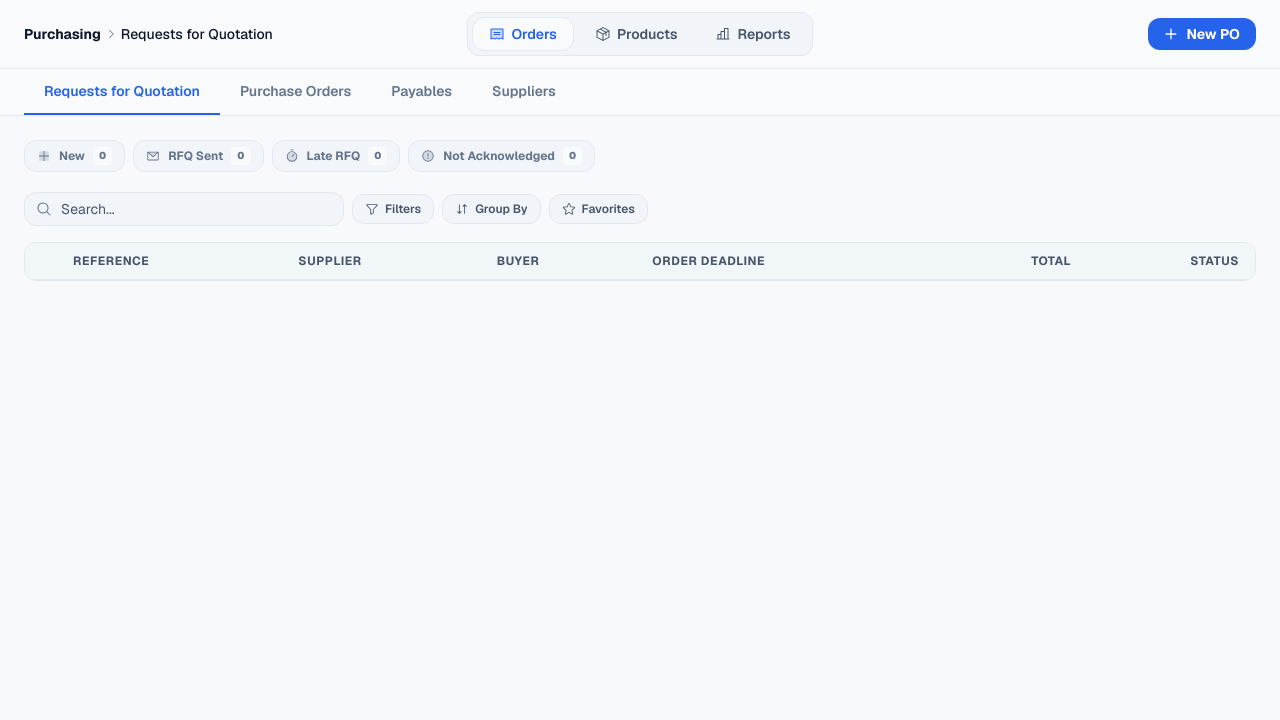
Reports drill-down in the Purchasing shell › opens the filtered order list, says it came from Reports, and returns on request
Click the button "Reports" at (753, 34), box [698,17,808,51]
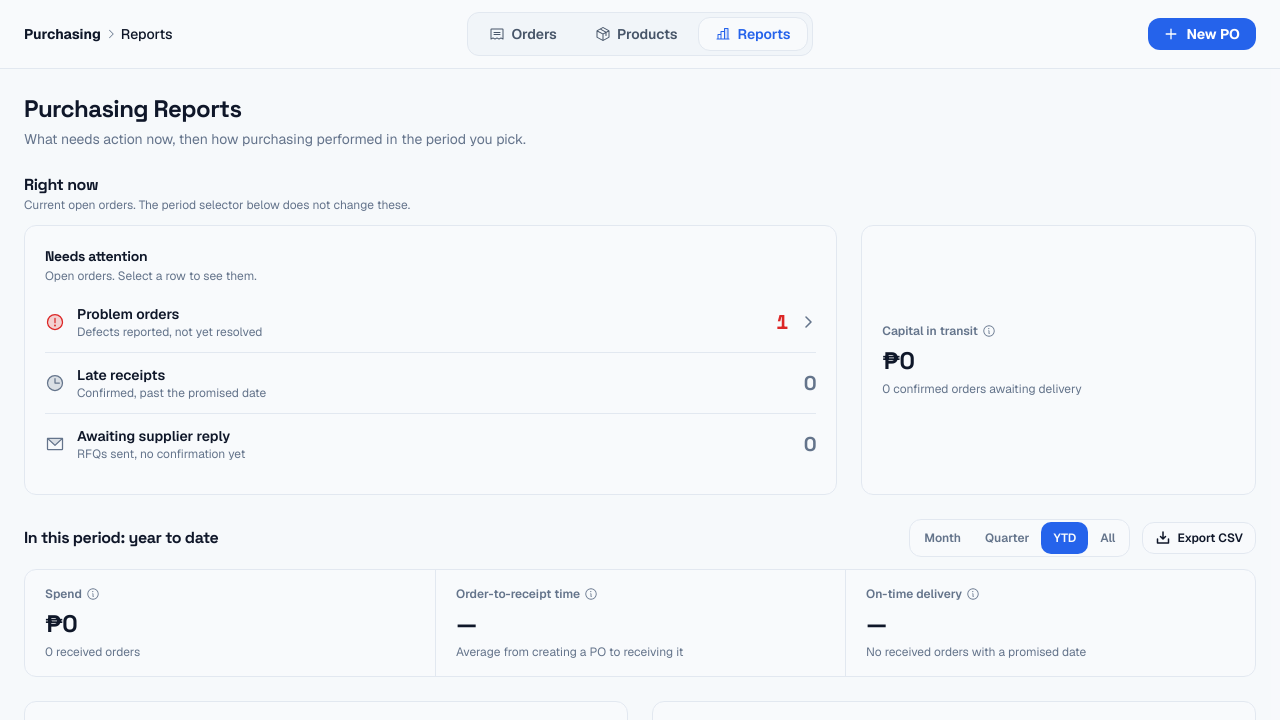
Click the button with aria-label "problem orders: 1" at (128, 314), box [45,292,816,352]
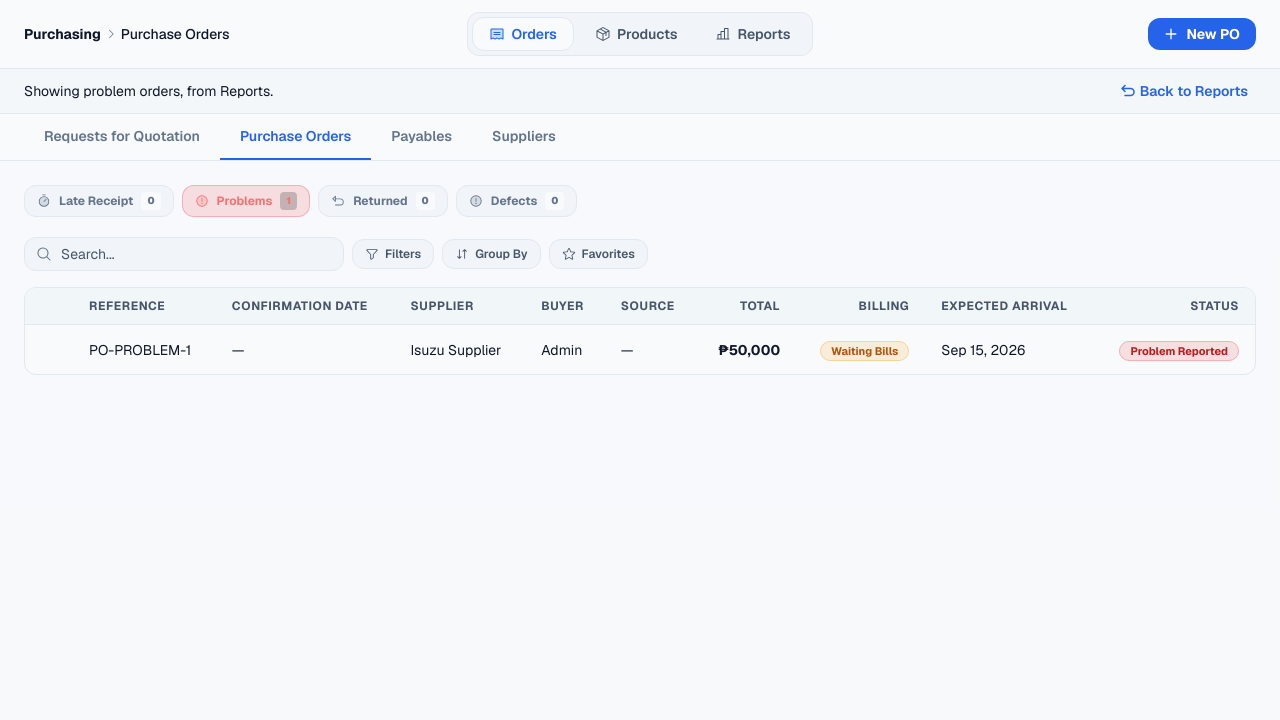
Result: the text "Showing problem orders, from Reports." is shown at [24,81,273,101]
Click the button "Back to Reports" at (1184, 91), box [1112,77,1256,105]
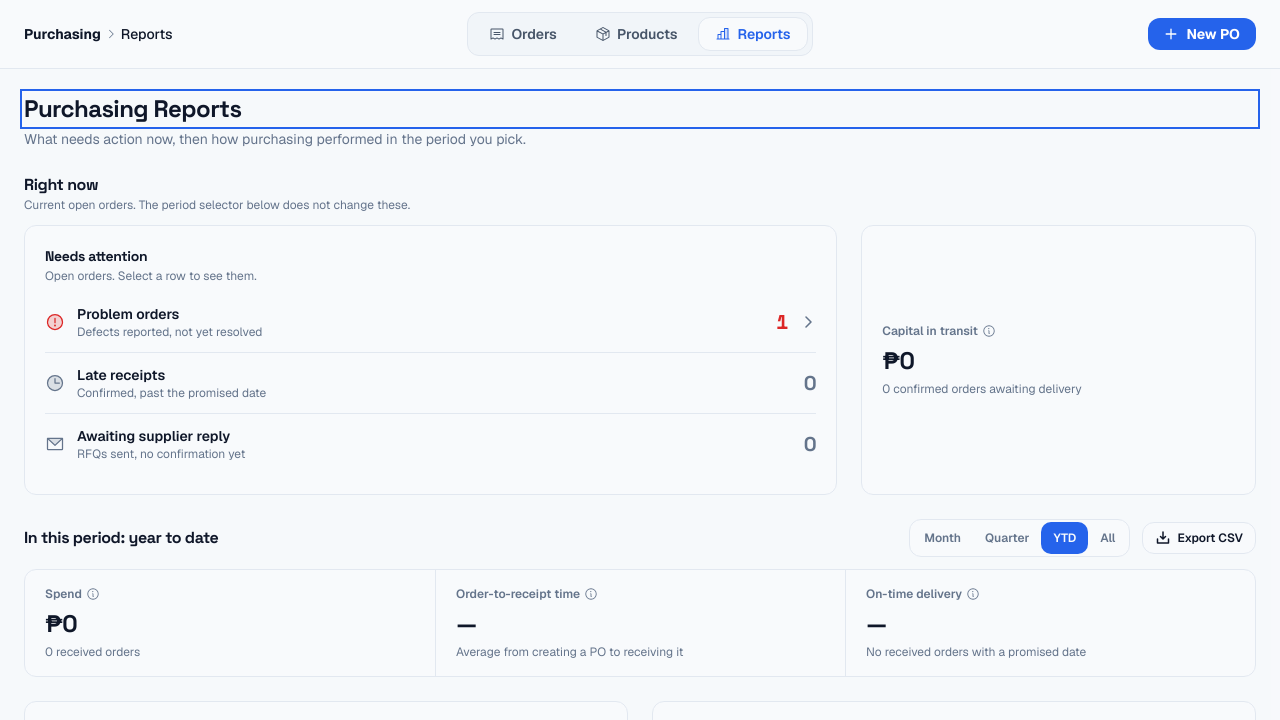
Result: the heading "Purchasing Reports" is shown at [24,93,1256,125]
Result: the text "Showing problem orders, from Reports." is gone
